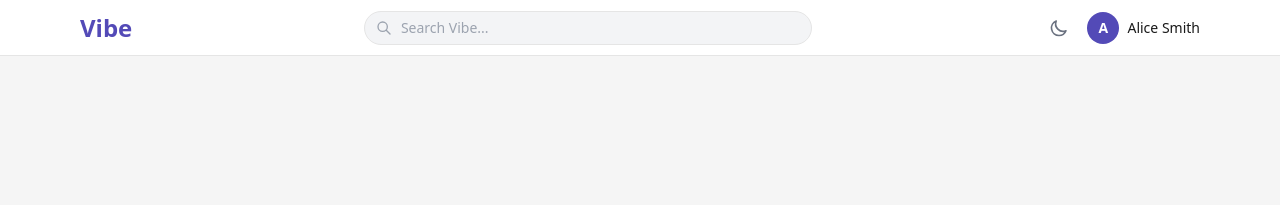
Test: Navbar › opens a dropdown with Profile and Notifications links on avatar click
Note: Click the avatar/name button to open the dropdown
What coordinates should you click on to do the following:
click the button with aria-label "User menu"
I would click on:
 (1144, 28)
Its box is [1088,12,1200,44].
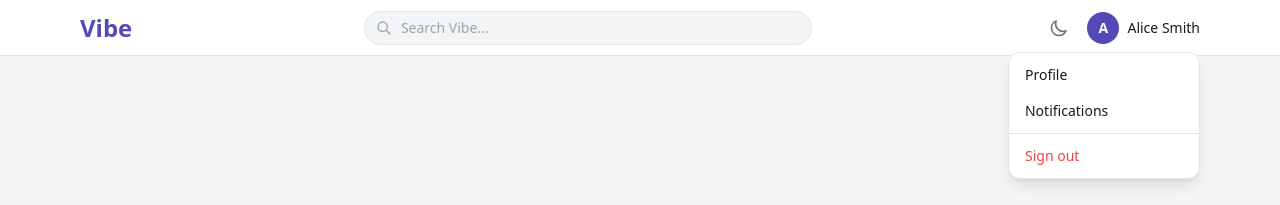
Expected: the link with test id "nav-profile-link" is shown, [1025,64,1067,84]
Expected: the link with test id "nav-notifications-link" is shown, [1025,100,1108,120]
Expected: the button with test id "logout-button" is shown, [1009,138,1199,174]
